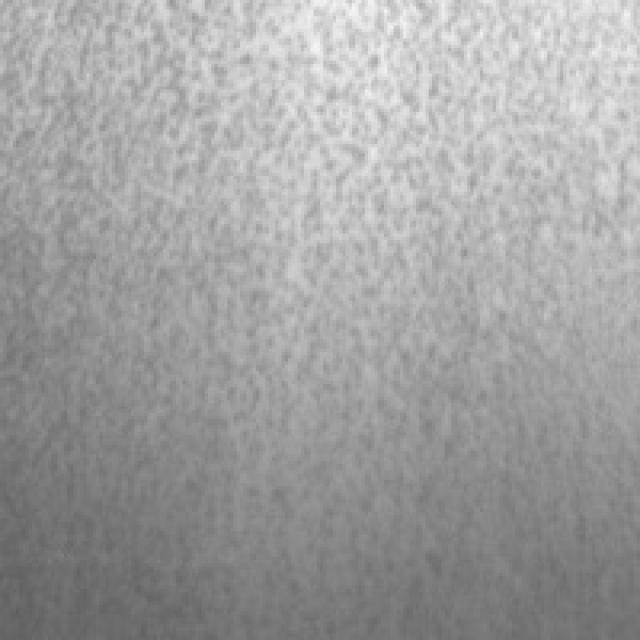pitted_surface: (0, 0, 627, 445)
